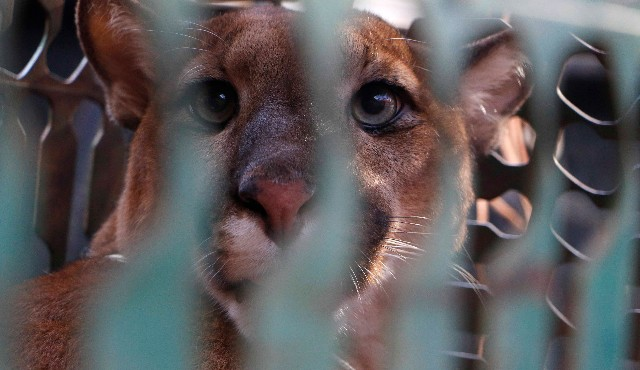OncaParda: (46, 1, 538, 357)
